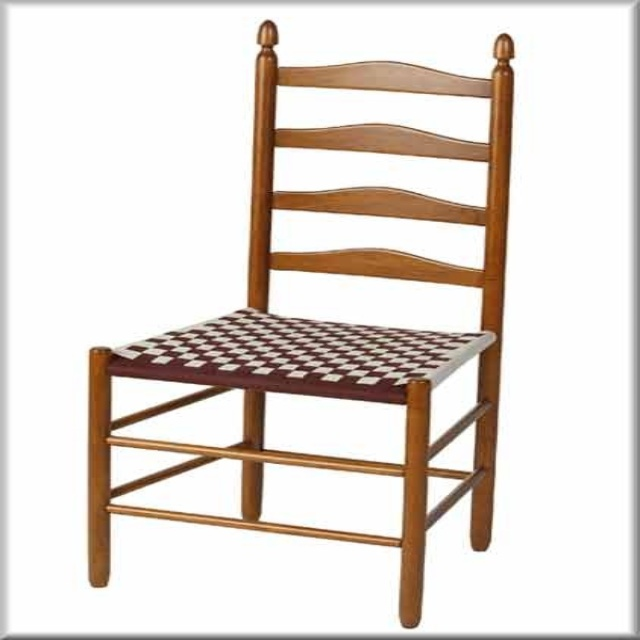obstacle: (88, 20, 513, 627)
